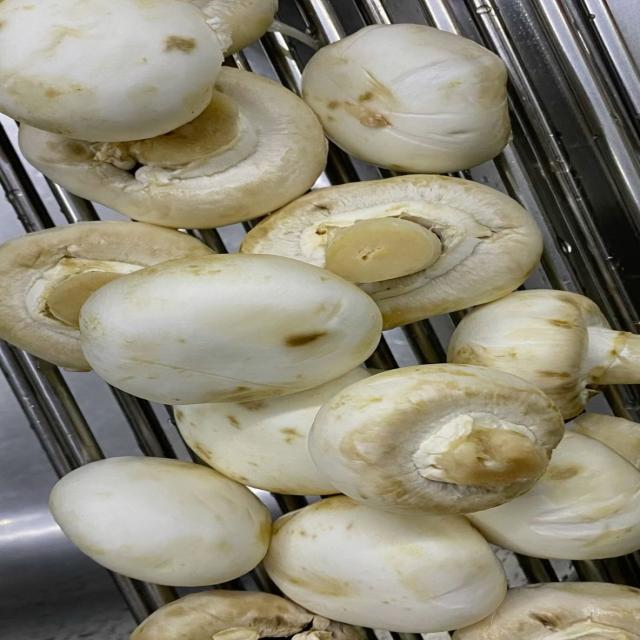champignon mushrooms: (20, 68, 326, 228), (241, 176, 541, 328), (80, 254, 381, 404), (309, 365, 563, 515), (265, 497, 506, 632), (0, 222, 212, 370), (0, 0, 222, 141), (303, 24, 510, 173), (50, 457, 270, 586), (448, 290, 639, 418), (175, 368, 368, 494), (467, 432, 639, 559), (130, 590, 363, 639), (454, 583, 639, 639), (187, 0, 278, 56), (567, 413, 639, 469)
